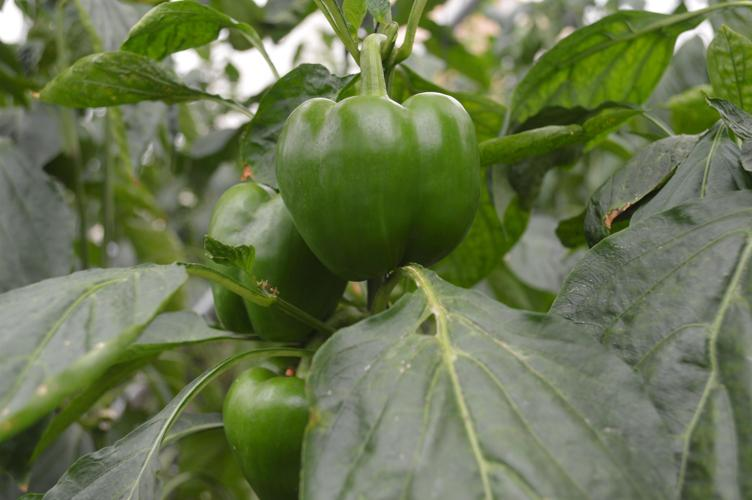BellPepper: (279, 92, 485, 278), (208, 185, 347, 340), (217, 367, 311, 493)
